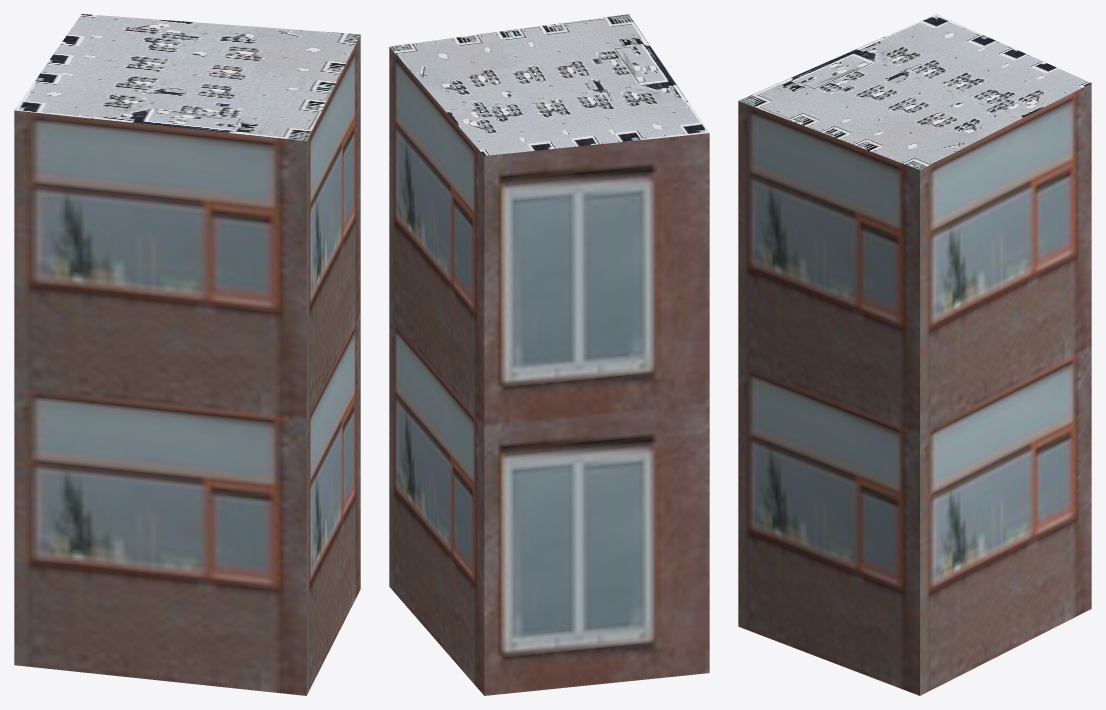
The model's file is ResTex__2741.fbx.
3 views of the same model, side by side, from view 1: azimuth 30°, elevation 25°; view 2: azimuth 150°, elevation 25°; view 3: azimuth 270°, elevation 25° (orthographic). The views are drawn at different scales.
Visible parts, largest first — view 1: CityEngineMaterial_19_m, CityEngineMaterial_15_m; view 2: CityEngineMaterial_19_m, CityEngineMaterial_15_m; view 3: CityEngineMaterial_19_m, CityEngineMaterial_15_m.
Part boxes in pixels (x1,y1,x2,y2): CityEngineMaterial_19_m: [14, 35, 360, 695]; CityEngineMaterial_15_m: [14, 14, 360, 141]; CityEngineMaterial_19_m: [389, 47, 709, 695]; CityEngineMaterial_15_m: [389, 14, 709, 155]; CityEngineMaterial_19_m: [738, 83, 1091, 695]; CityEngineMaterial_15_m: [738, 14, 1091, 169].
Size of the model in its own units: 3.82 by 6 by 3.66.
2 materials, 2 textured.
